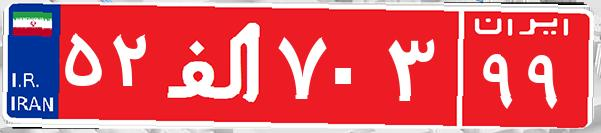0: (330, 28, 385, 110)
2: (110, 28, 158, 105)
3: (385, 28, 445, 110)
5: (57, 26, 110, 107)
7: (273, 28, 330, 110)
9: (475, 38, 525, 113), (525, 38, 570, 115)
الف: (158, 15, 273, 115)
